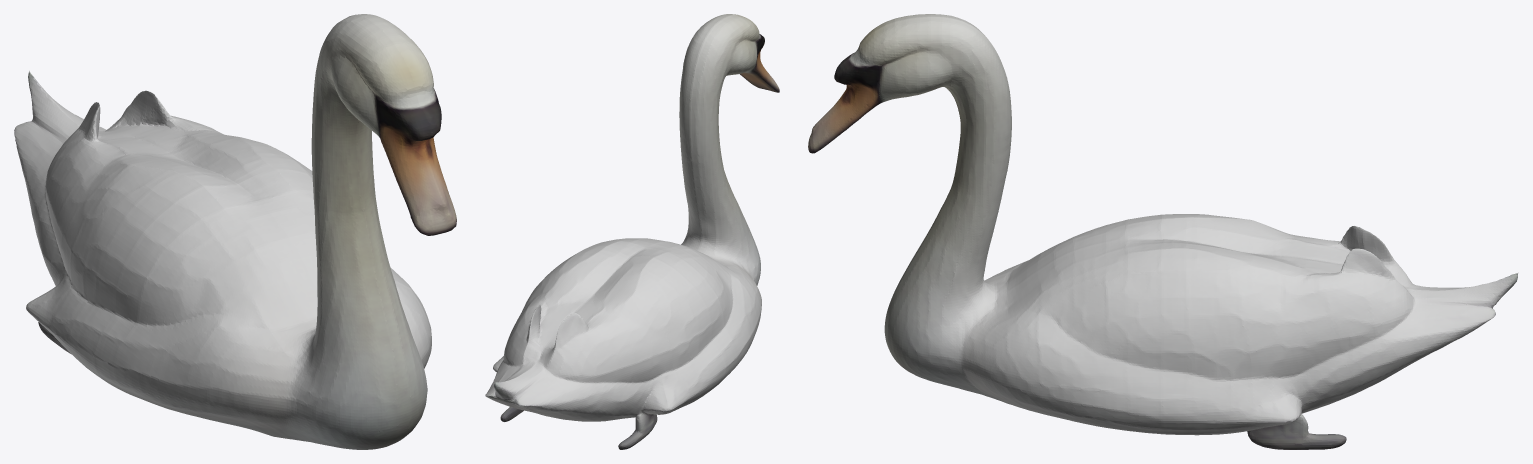
Rendered from swan.glb.
The picture shows the model from 3 angles, left to right: view 1: azimuth 30°, elevation 25°; view 2: azimuth 150°, elevation 25°; view 3: azimuth 270°, elevation 25°; orthographic projection. The views are drawn at different scales.
Parts seen in each view (by area): view 1: world; view 2: world; view 3: world.
Part boxes in pixels (x1,y1,x2,y2): world: (14, 14, 456, 449); world: (485, 14, 779, 449); world: (808, 14, 1517, 449).
Bounding box in the file's own units: 0.3987 × 0.6134 × 1.
